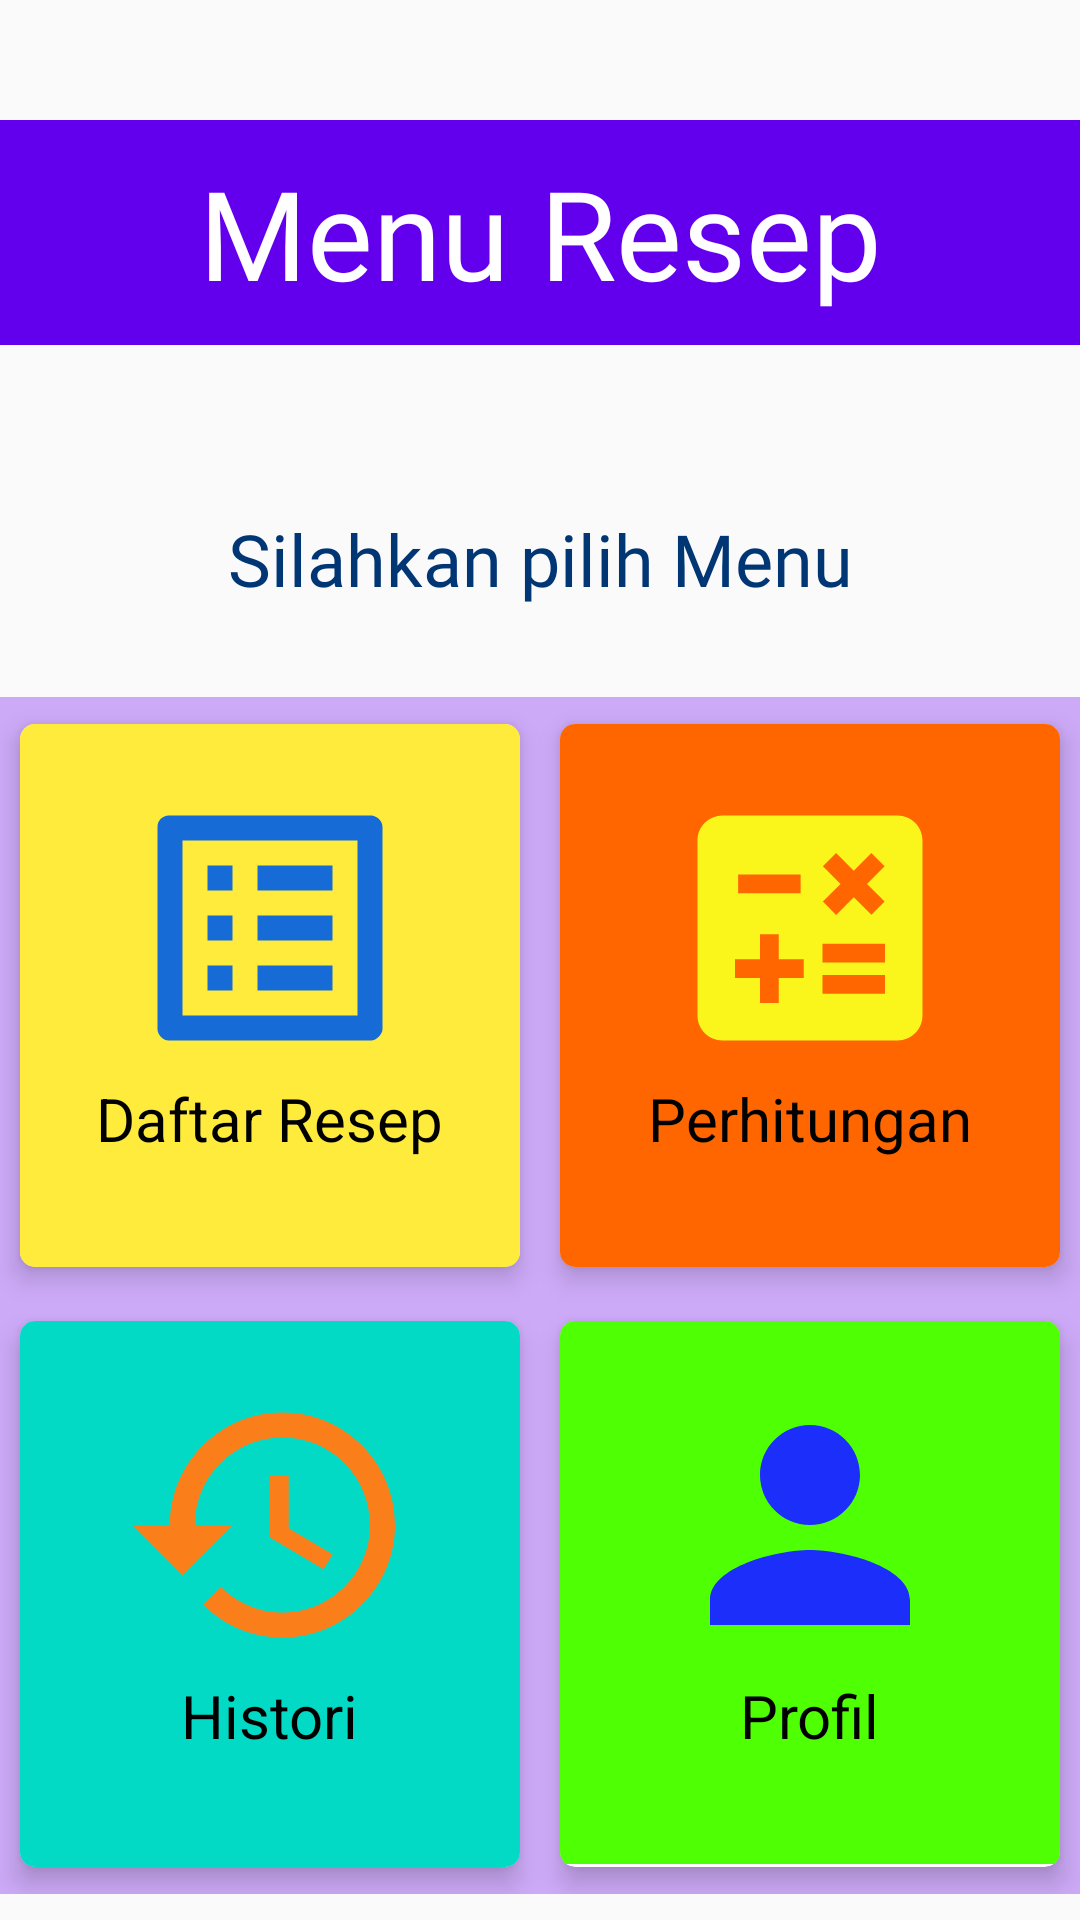

Icon bounding boxes for this 1080×1920 phone screenshot, format (x1, y1, x2, y2):
person: (710, 1425, 910, 1625)
